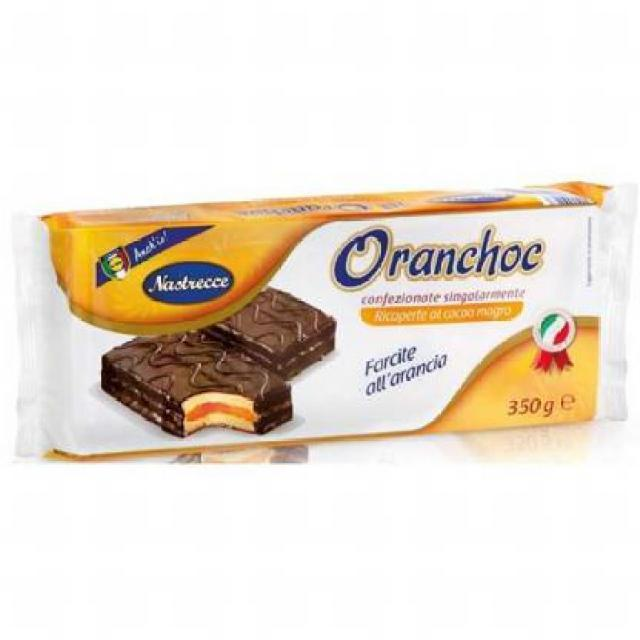Merendine: (10, 180, 639, 463)
